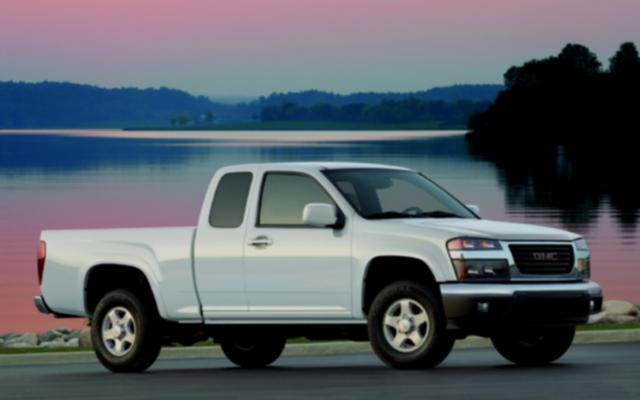GMC: (528, 246, 564, 265)
